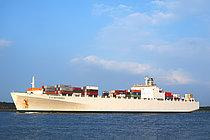Ship: (9, 74, 204, 119)
